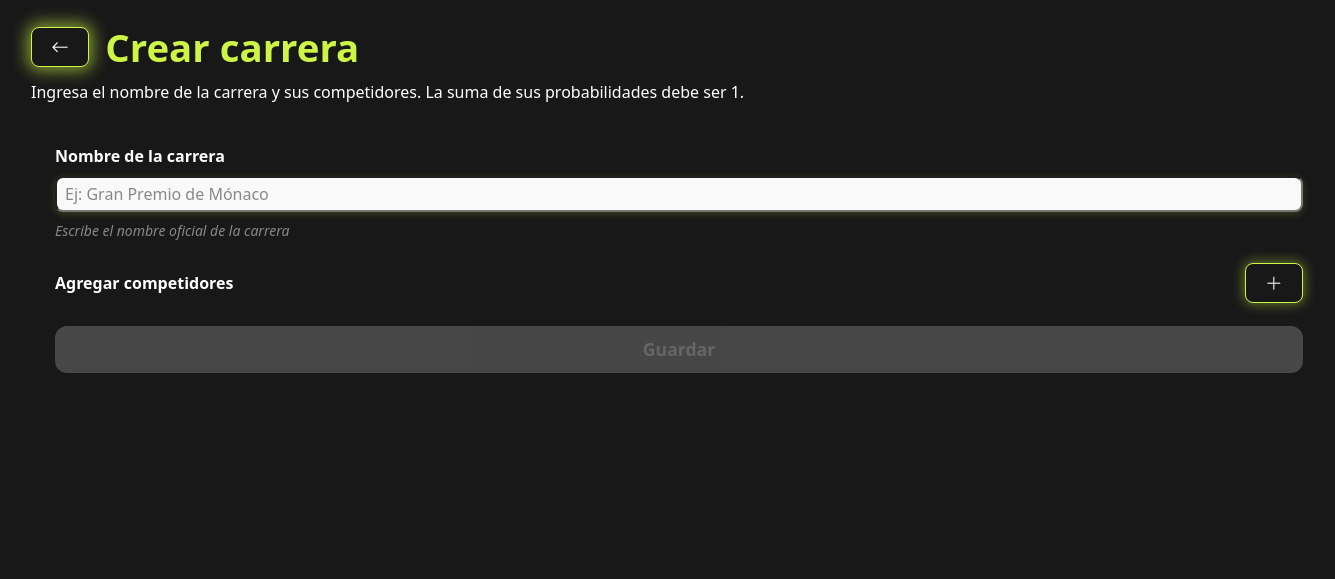
RaceCreate › enables save button when form is valid
The width and height of the screenshot is (1335, 579).
Type "Gran Premio" into the field with placeholder "Ej: Gran Premio de Mónaco" at (679, 194), box top-left (55, 176), bottom-right (1303, 212)
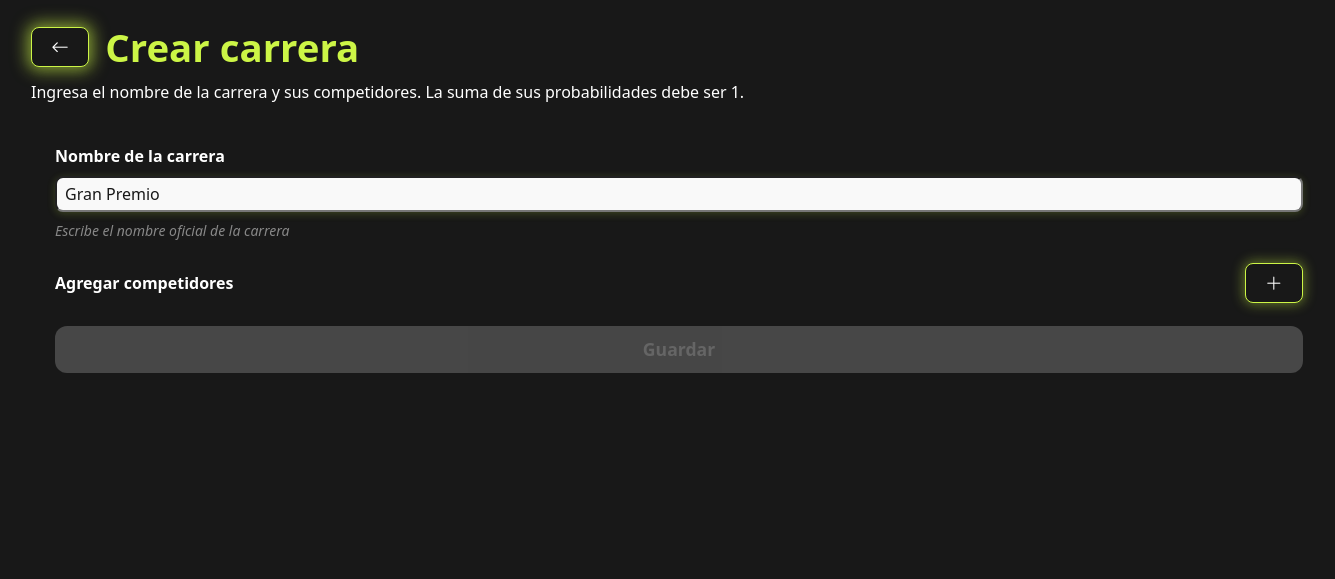
Click the button with class "add-list-plus-btn" at (1274, 284), box top-left (1245, 264), bottom-right (1303, 304)
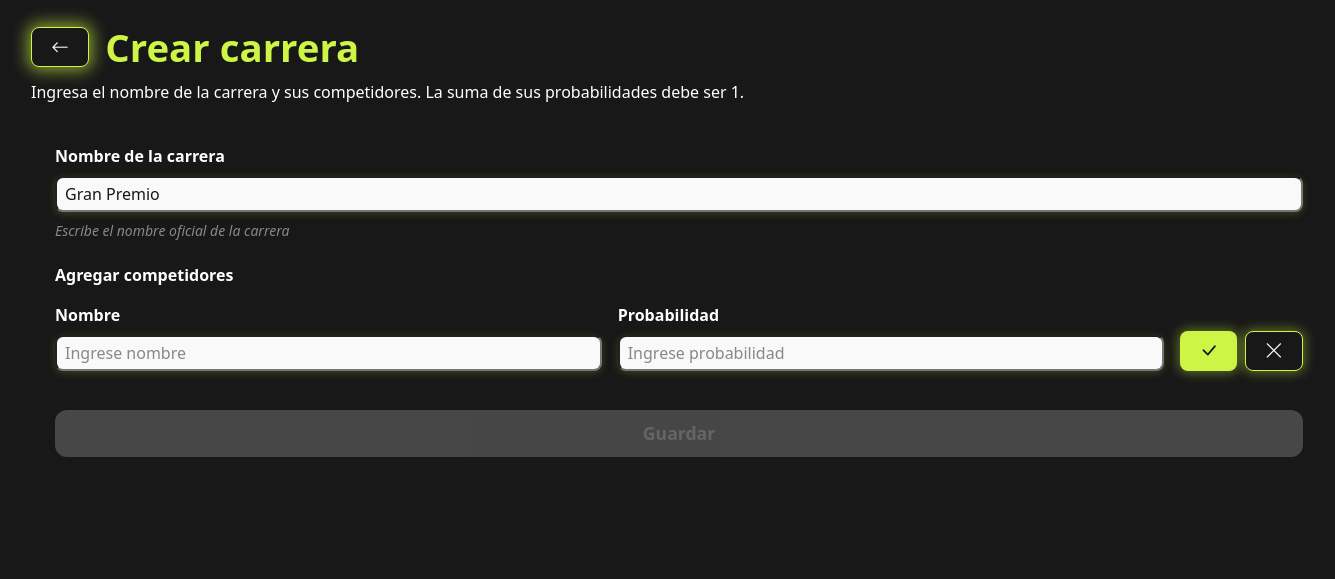
Type "Competidor 1" into the field with placeholder "Ingrese nombre" at (328, 354), box top-left (55, 336), bottom-right (602, 372)
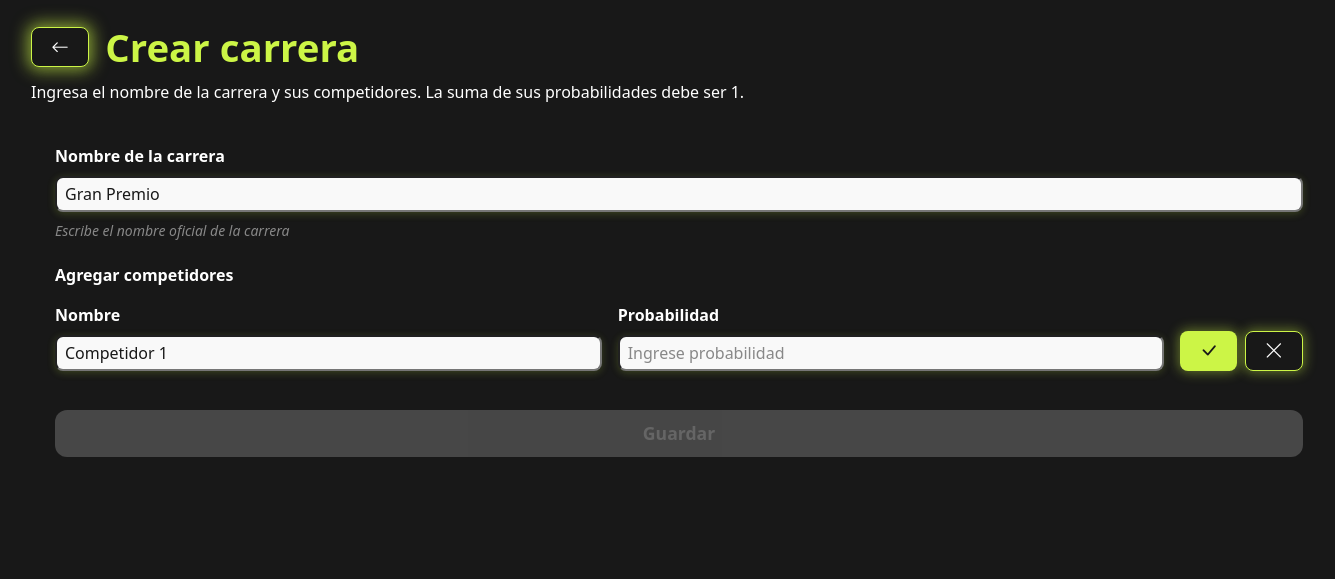
Type "1" into the number field with placeholder "Ingrese probabilidad" at (891, 354), box top-left (618, 336), bottom-right (1164, 372)
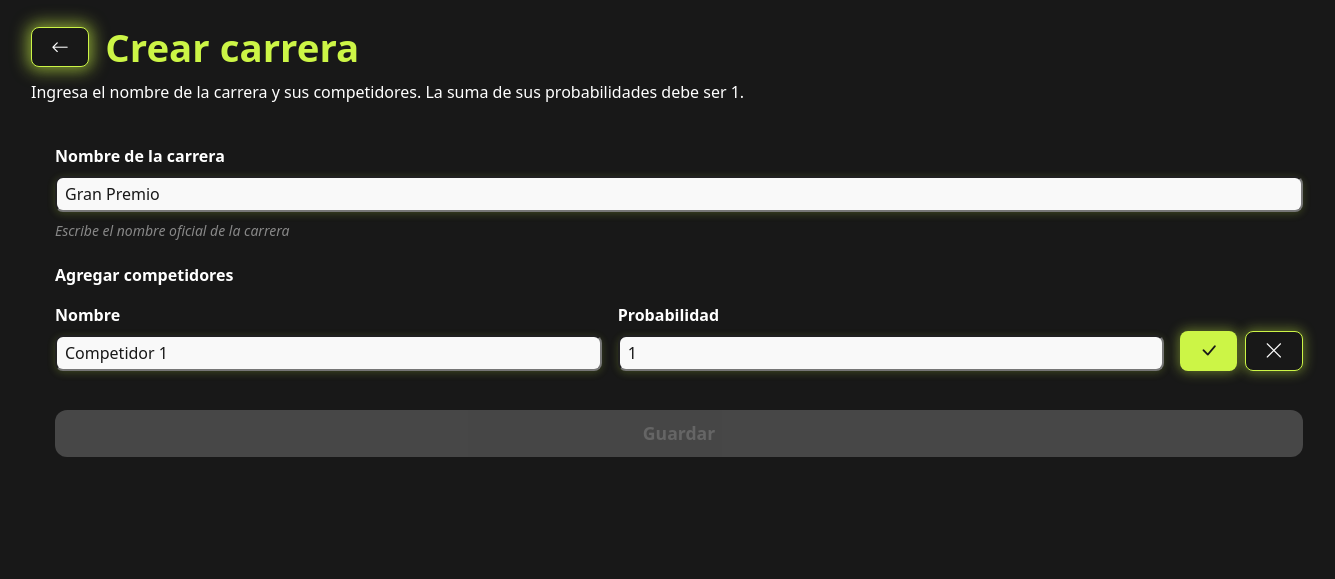
Click the 1st button with class "custom-btn-primary" at (1209, 352), box top-left (1180, 332), bottom-right (1237, 372)
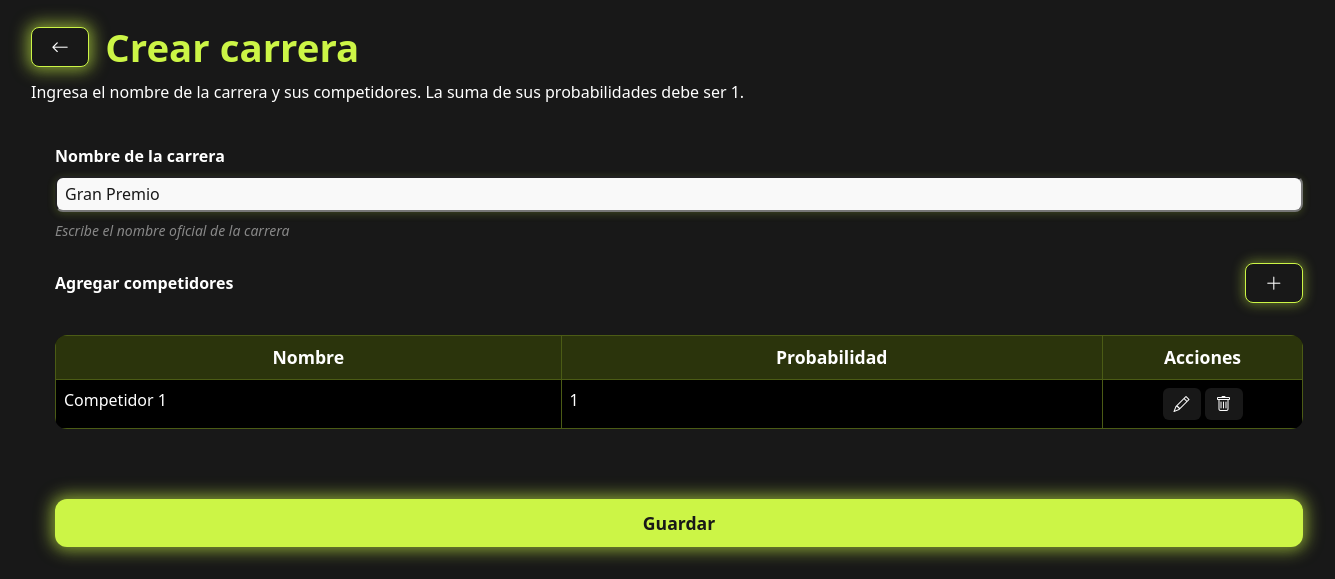
Expected: the button "Guardar" is enabled, top-left (55, 499), bottom-right (1303, 547)
